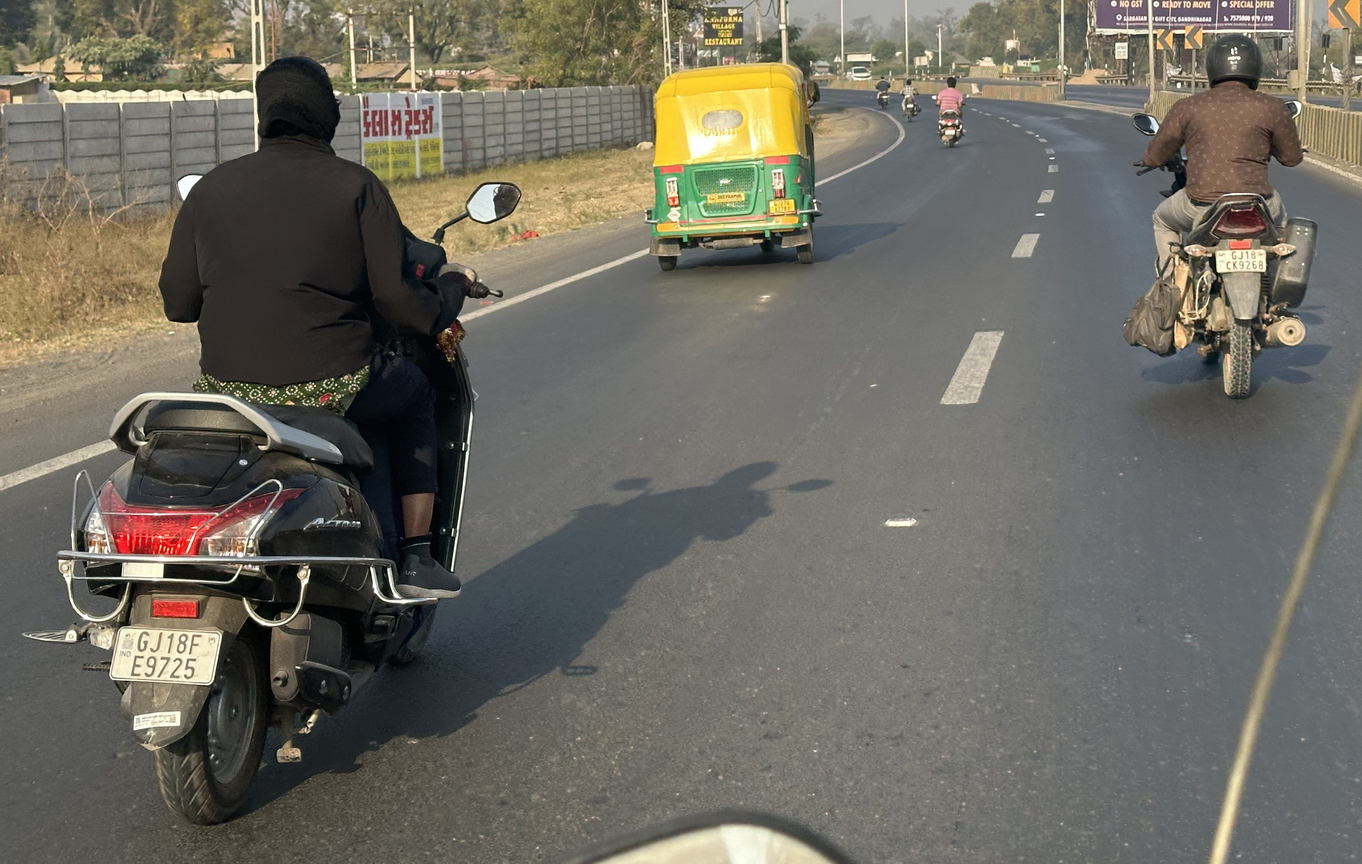BikeWithRider: (23, 53, 526, 830), (1119, 27, 1324, 402), (930, 76, 967, 149), (898, 77, 922, 124), (876, 75, 891, 109)
Helmet: (1202, 29, 1266, 92)
NoHelmet: (246, 52, 349, 149)
